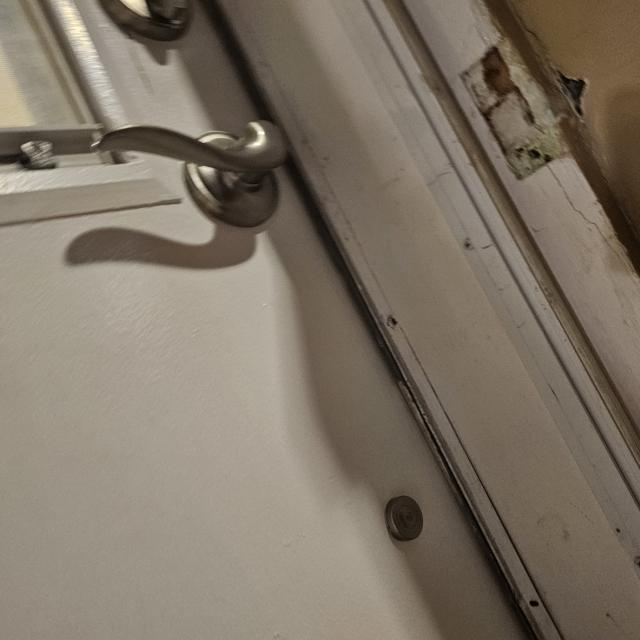door-handle: (96, 121, 286, 226)
